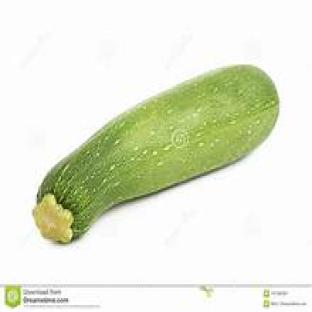Zucchini: (33, 65, 277, 242)
